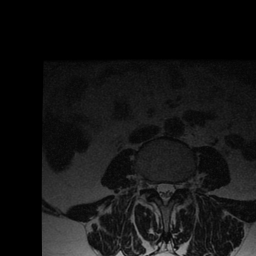CCS_normal: (161, 174, 168, 211)
LFS_normal: (176, 176, 183, 196)
LLS_normal: (168, 178, 175, 201)
RFS_normal: (146, 175, 154, 195)
RLS_normal: (154, 177, 161, 200)
